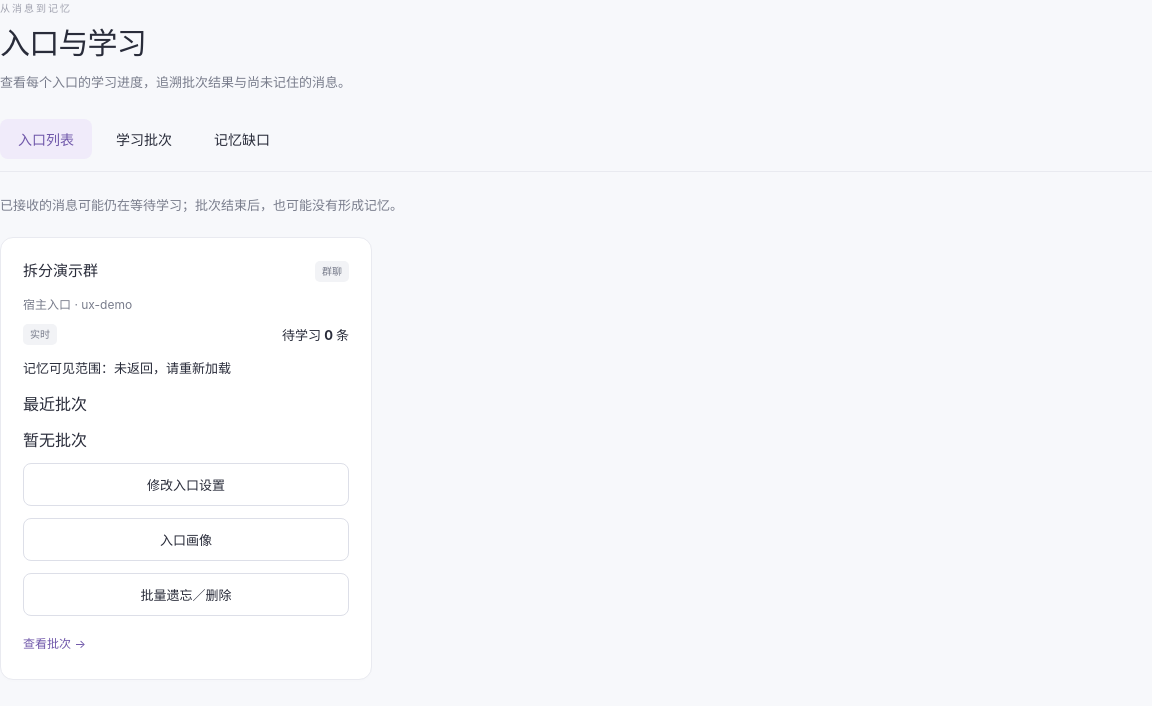
Scenario: 只有全部成功且缺口为零才显示无缺口；历史拒绝不算最终失败
Click the button "学习批次": (144, 139) top-left (98, 119), bottom-right (190, 159)
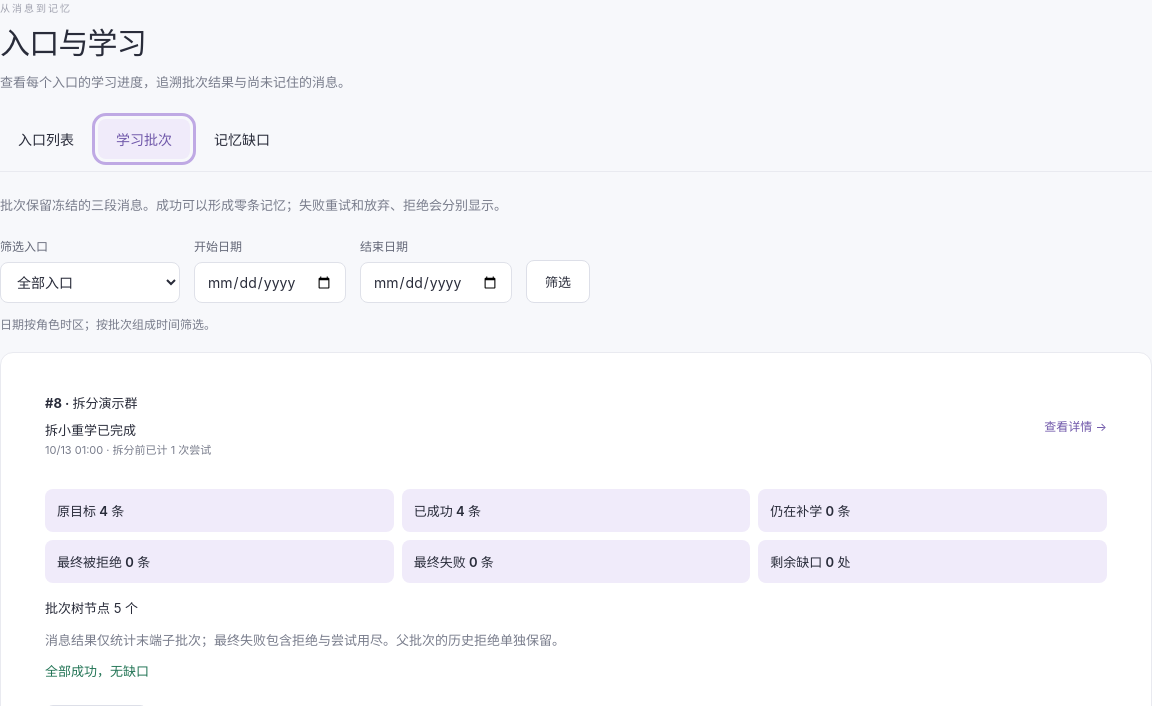
Result: the button with aria-label "查看批次 #8" is shown at top-left (1044, 411), bottom-right (1107, 440)
Result: the text "全部成功，无缺口" is shown at top-left (45, 663), bottom-right (149, 679)
Result: the text "最终失败 0 条" is shown at top-left (402, 540), bottom-right (750, 583)
